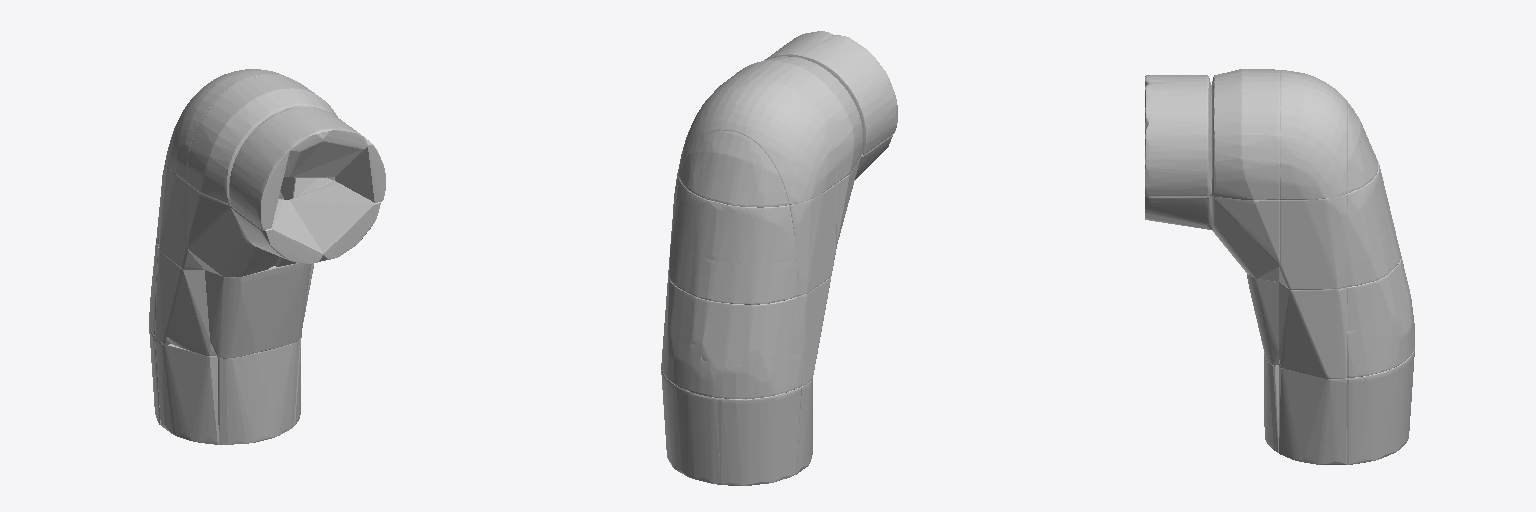
The model's file is arm-L2_split.obj.
3 views of the same model, side by side, from view 1: azimuth 30°, elevation 25°; view 2: azimuth 150°, elevation 25°; view 3: azimuth 270°, elevation 25° (orthographic).
Parts seen in each view (by area): view 1: geometry_12, geometry_4, geometry_27, geometry_3, geometry_22, geometry_23, geometry_32, geometry_11, geometry_31, geometry_24, geometry_26, geometry_18 (+5 smaller); view 2: geometry_26, geometry_0, geometry_25, geometry_8, geometry_1, geometry_14, geometry_27, geometry_15, geometry_7, geometry_32, geometry_16, geometry_18 (+11 smaller); view 3: geometry_28, geometry_26, geometry_20, geometry_2, geometry_9, geometry_1, geometry_29, geometry_21, geometry_6, geometry_5, geometry_31, geometry_16 (+5 smaller).
Boxes of the visible parts, x1=… form: geometry_12: x1=205, y1=263, x2=311, y2=358; geometry_4: x1=218, y1=339, x2=299, y2=444; geometry_27: x1=188, y1=78, x2=286, y2=204; geometry_3: x1=155, y1=338, x2=218, y2=444; geometry_22: x1=188, y1=184, x2=283, y2=276; geometry_23: x1=290, y1=181, x2=380, y2=260; geometry_32: x1=229, y1=127, x2=289, y2=229; geometry_11: x1=166, y1=258, x2=215, y2=355; geometry_31: x1=290, y1=107, x2=367, y2=177; geometry_24: x1=231, y1=200, x2=323, y2=264; geometry_26: x1=166, y1=69, x2=288, y2=182; geometry_18: x1=165, y1=167, x2=203, y2=269; geometry_26: x1=678, y1=75, x2=835, y2=204; geometry_0: x1=718, y1=387, x2=800, y2=485; geometry_25: x1=679, y1=130, x2=788, y2=207; geometry_8: x1=702, y1=297, x2=800, y2=364; geometry_1: x1=661, y1=366, x2=720, y2=484; geometry_14: x1=689, y1=253, x2=797, y2=304; geometry_27: x1=771, y1=59, x2=862, y2=182; geometry_15: x1=716, y1=204, x2=795, y2=263; geometry_7: x1=700, y1=353, x2=800, y2=398; geometry_32: x1=837, y1=51, x2=897, y2=154; geometry_16: x1=671, y1=179, x2=722, y2=259; geometry_18: x1=811, y1=184, x2=836, y2=288; geometry_28: x1=1212, y1=75, x2=1279, y2=199; geometry_26: x1=1280, y1=70, x2=1347, y2=199; geometry_20: x1=1279, y1=193, x2=1347, y2=289; geometry_2: x1=1279, y1=364, x2=1346, y2=464; geometry_9: x1=1279, y1=282, x2=1347, y2=378; geometry_1: x1=1347, y1=348, x2=1414, y2=464; geometry_29: x1=1145, y1=123, x2=1211, y2=195; geometry_21: x1=1212, y1=196, x2=1279, y2=281; geometry_6: x1=1347, y1=300, x2=1414, y2=377; geometry_5: x1=1347, y1=257, x2=1410, y2=330; geometry_31: x1=1145, y1=82, x2=1211, y2=137; geometry_16: x1=1348, y1=165, x2=1391, y2=248.
Size of the model in its own units: 0.0822 by 0.2048 by 0.1398.